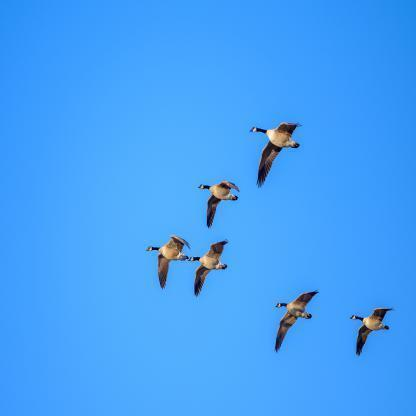bird: (249, 122, 302, 190), (275, 291, 320, 354), (145, 234, 191, 291), (189, 239, 230, 298), (349, 308, 393, 358), (199, 180, 241, 229)
